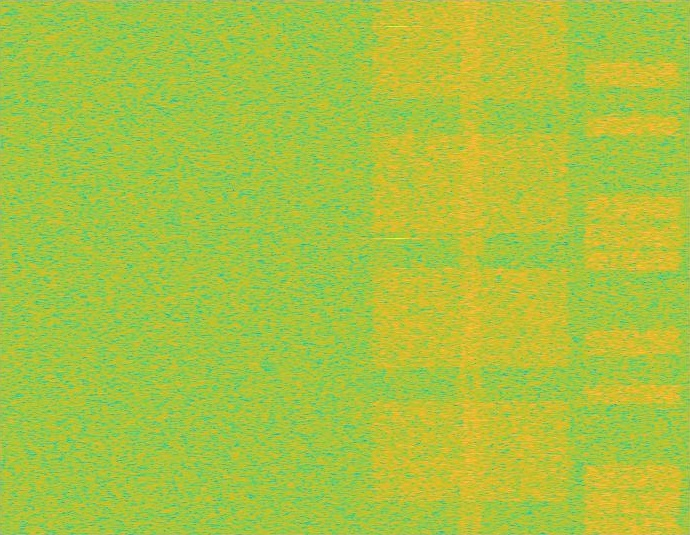5G: (367, 0, 574, 534)
DSSS: (457, 0, 485, 534)
LTE: (581, 0, 684, 534)
Radar: (390, 0, 404, 534)
